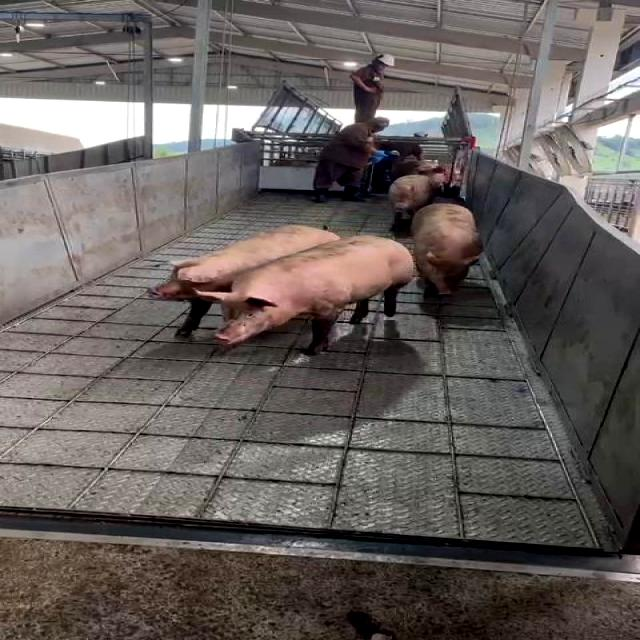pig: (204, 236, 415, 354), (149, 225, 339, 336), (411, 204, 481, 295), (389, 175, 439, 230)
